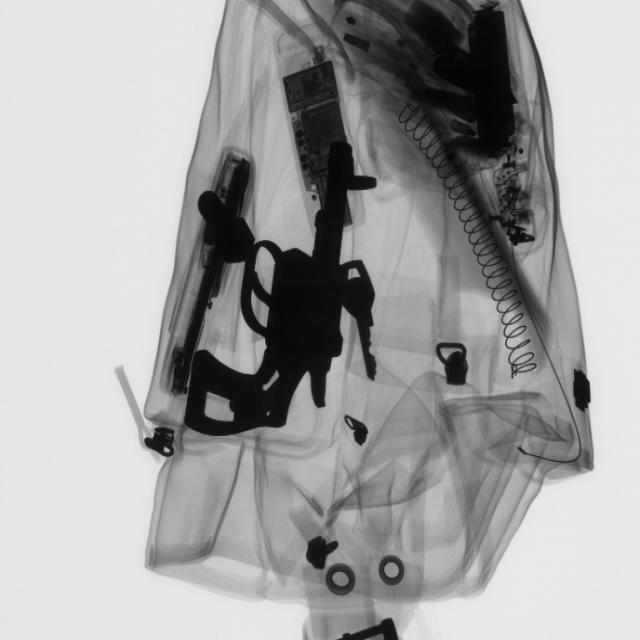GUN: (193, 131, 366, 439)
